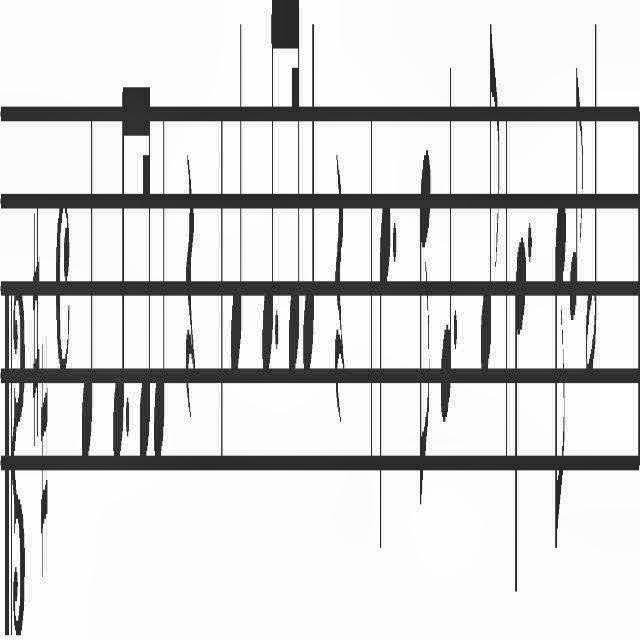Diez: (40, 330, 48, 582), (32, 204, 40, 454)
Eighth-note: (480, 7, 500, 395), (553, 176, 569, 564), (260, 0, 276, 378), (112, 70, 126, 474), (418, 138, 432, 520)
Half-note: (585, 11, 599, 392)
Quarter-note: (302, 0, 317, 380), (153, 94, 167, 478), (229, 13, 243, 391), (82, 87, 95, 489), (378, 190, 392, 562), (441, 44, 454, 443), (514, 229, 526, 607)
Quarter-rest: (333, 141, 345, 443), (183, 142, 194, 430)
Sixteenth-note: (137, 72, 151, 468), (287, 1, 301, 392)
